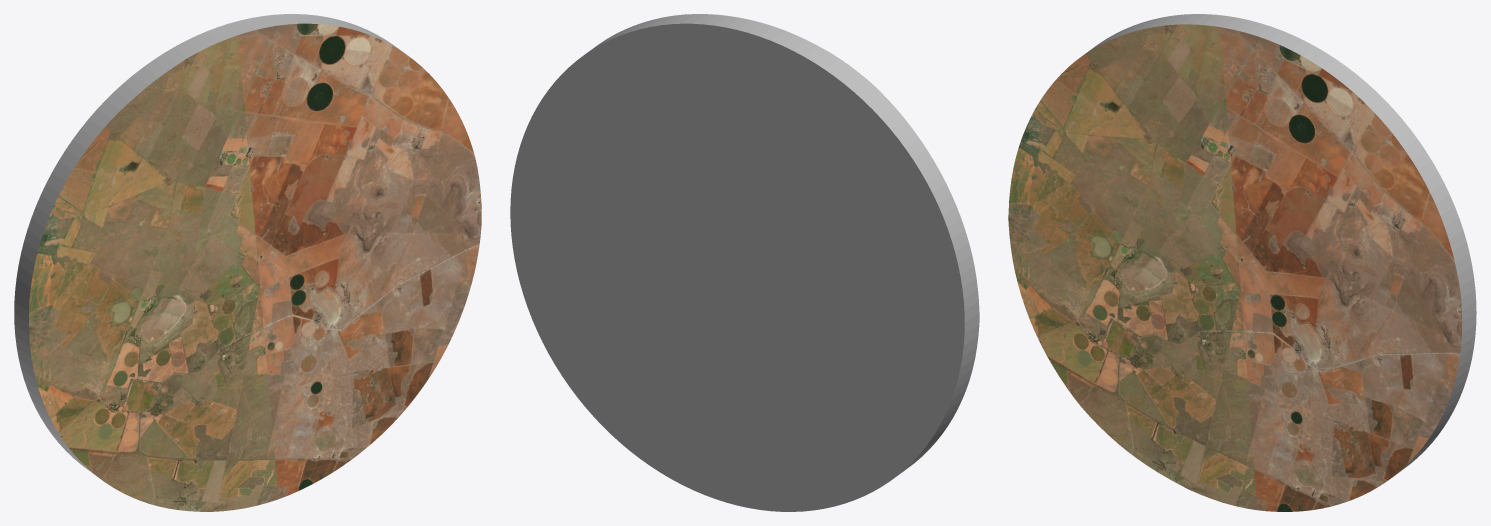
File: kimberley_bloemfontein.glb
3 renders of one model, left to right at view 1: azimuth 30°, elevation 25°; view 2: azimuth 150°, elevation 25°; view 3: azimuth 330°, elevation 25°, orthographic.
Bounding box in the file's own units: 200 × 200 × 12.57.
2 materials, 1 textured.
